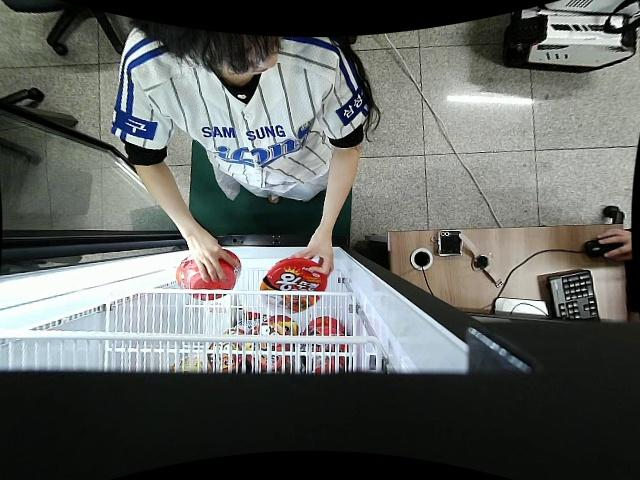00_hand: (187, 227, 240, 283), (289, 232, 335, 275)
10_wangTtukkeong: (260, 256, 328, 311), (177, 250, 240, 301)
